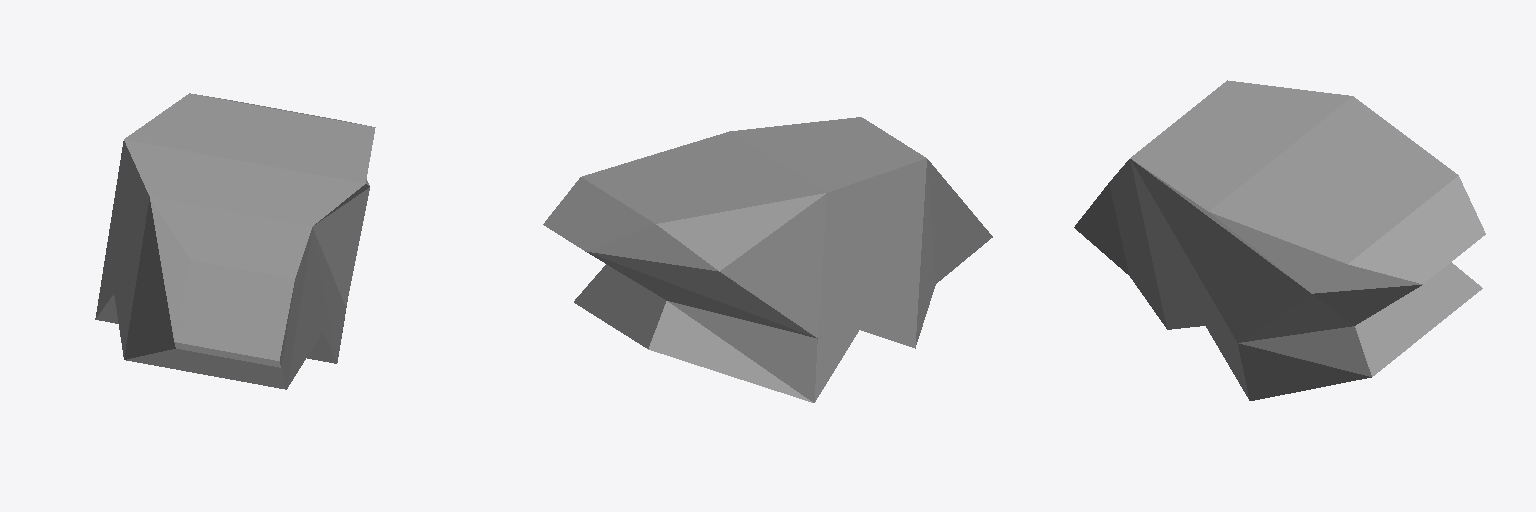
Rendered from socle.obj.
3 views of the same model, side by side, from view 1: azimuth 30°, elevation 25°; view 2: azimuth 150°, elevation 25°; view 3: azimuth 270°, elevation 25° (orthographic).
Visible parts, largest first — view 1: Shard01_Cube.002; view 2: Shard01_Cube.002; view 3: Shard01_Cube.002.
Boxes of the visible parts, <box> form: Shard01_Cube.002: <box>95,93,375,389</box>; Shard01_Cube.002: <box>543,117,992,402</box>; Shard01_Cube.002: <box>1074,80,1485,400</box>.
Bounding box in the file's own units: 3.18 × 2.24 × 3.71.